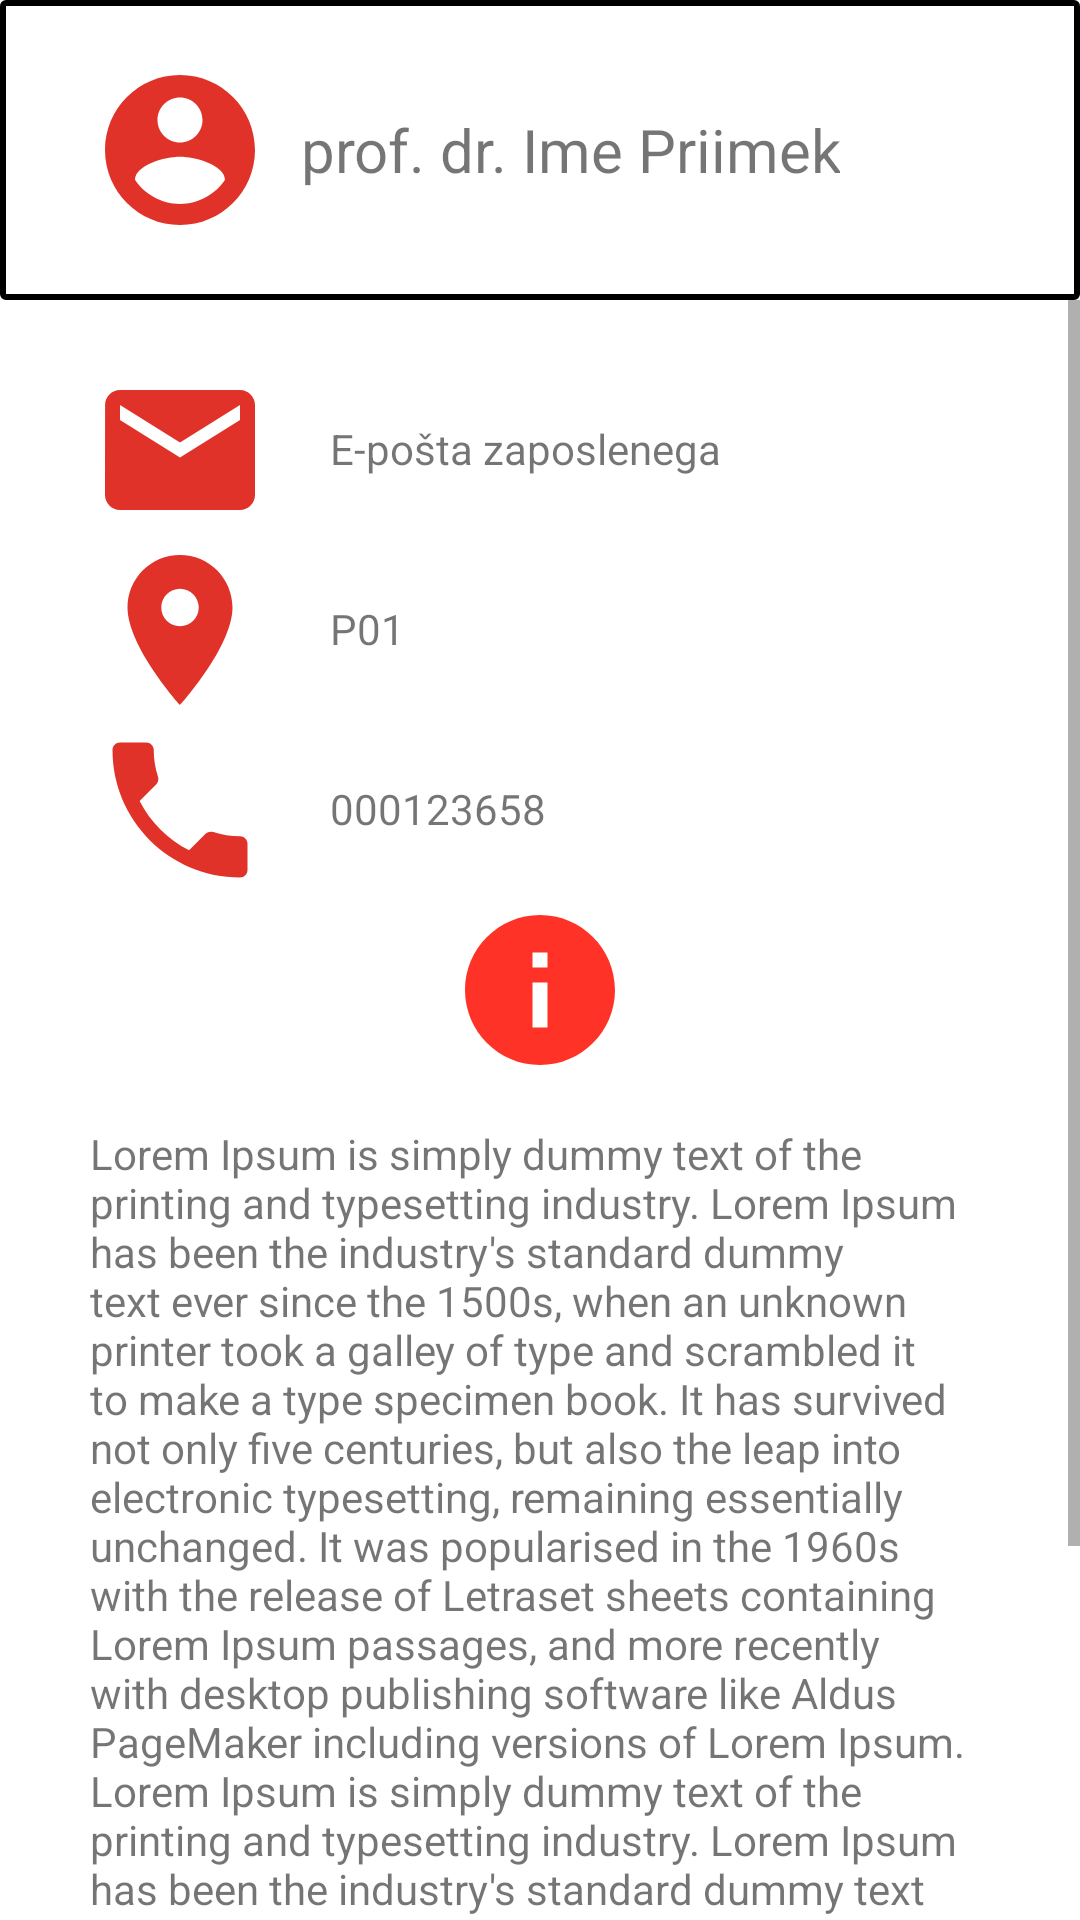

Screen size 1080w x 1920h. Icon name, then its box in pixels as (x1, y1, x2, y2):
account circle: (105, 75, 255, 225)
email: (105, 390, 255, 510)
info: (465, 915, 615, 1065)
location on: (127, 555, 233, 705)
phone: (112, 742, 248, 878)
